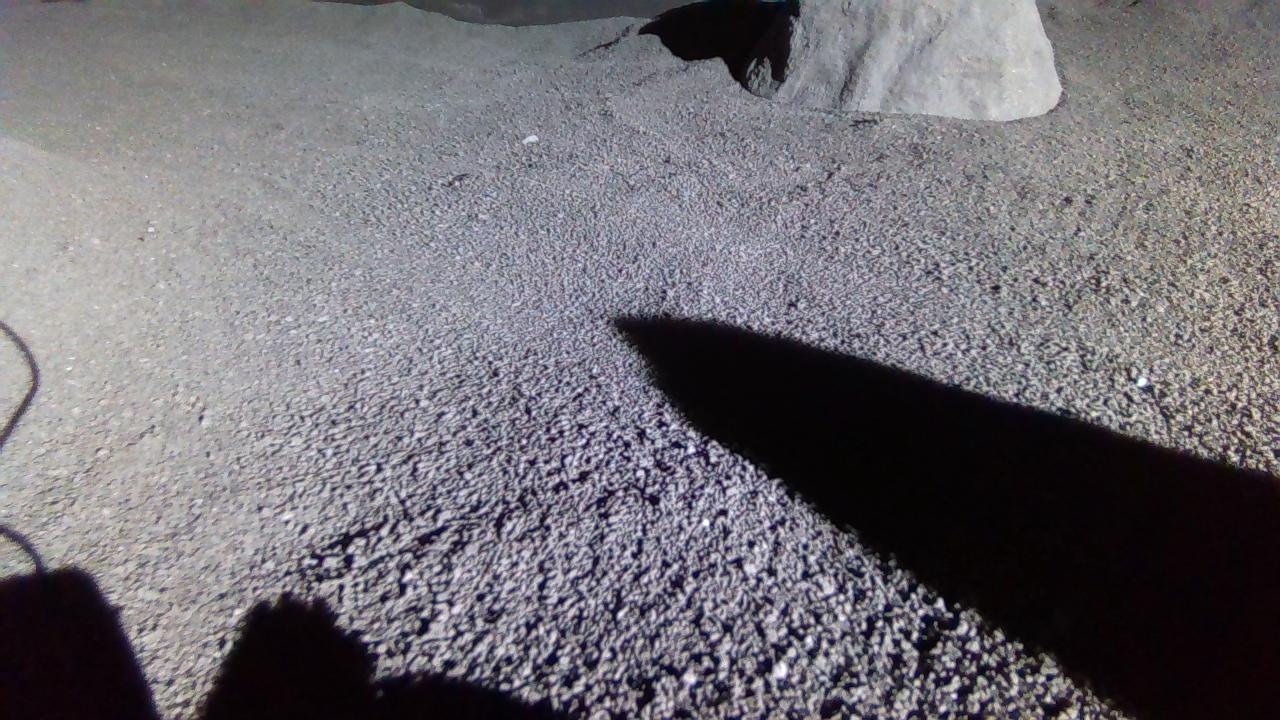rock: (745, 0, 1064, 120)
